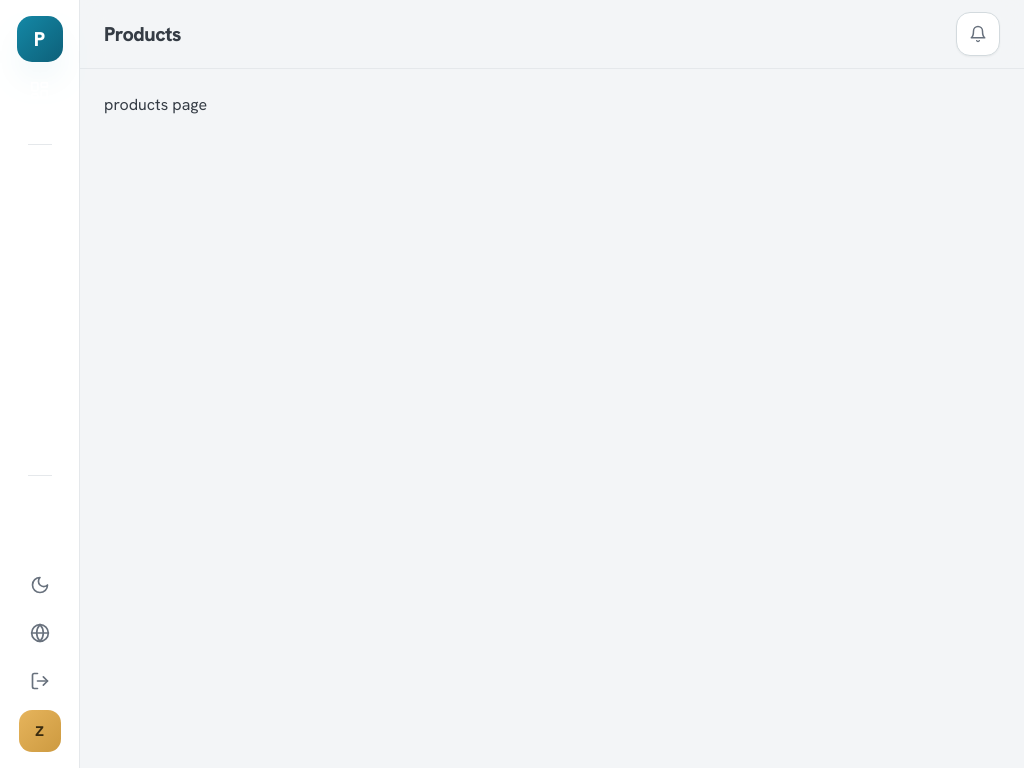
Scenario: Sidebar language menu — Escape to dismiss (#226) › closes the open language menu when Escape is pressed
Click the button named "language".
click(40, 633)  # box x1=18 y1=612 x2=60 y2=654
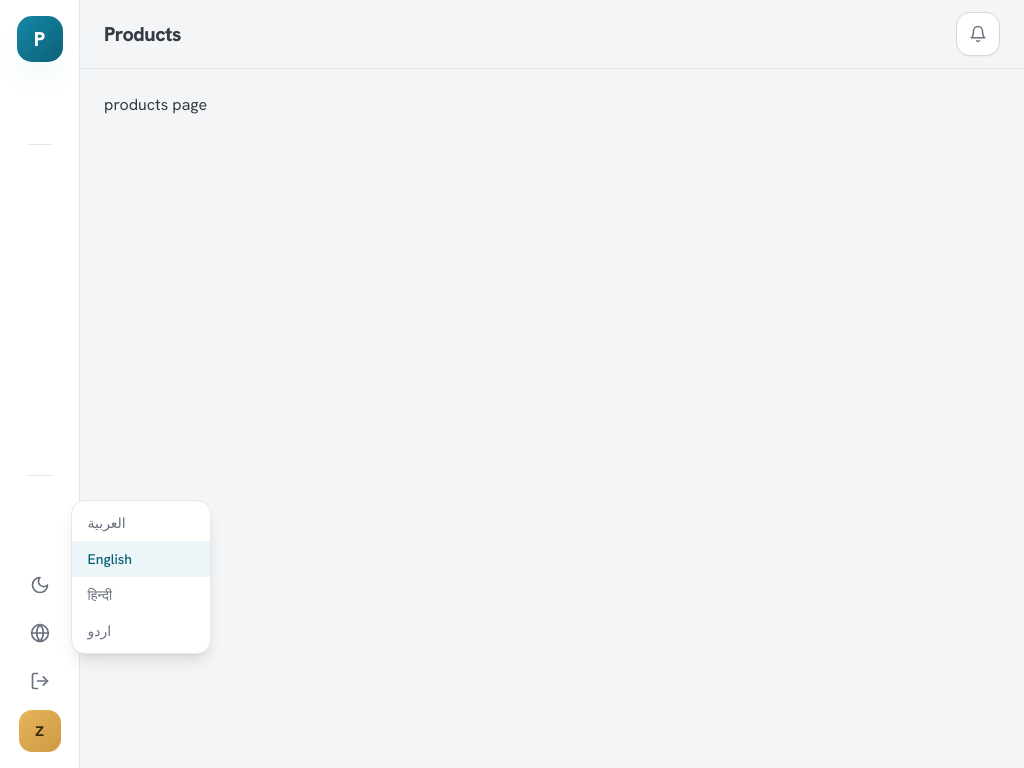
Expected: the button "English" is shown, x1=72 y1=541 x2=210 y2=577
Press Escape
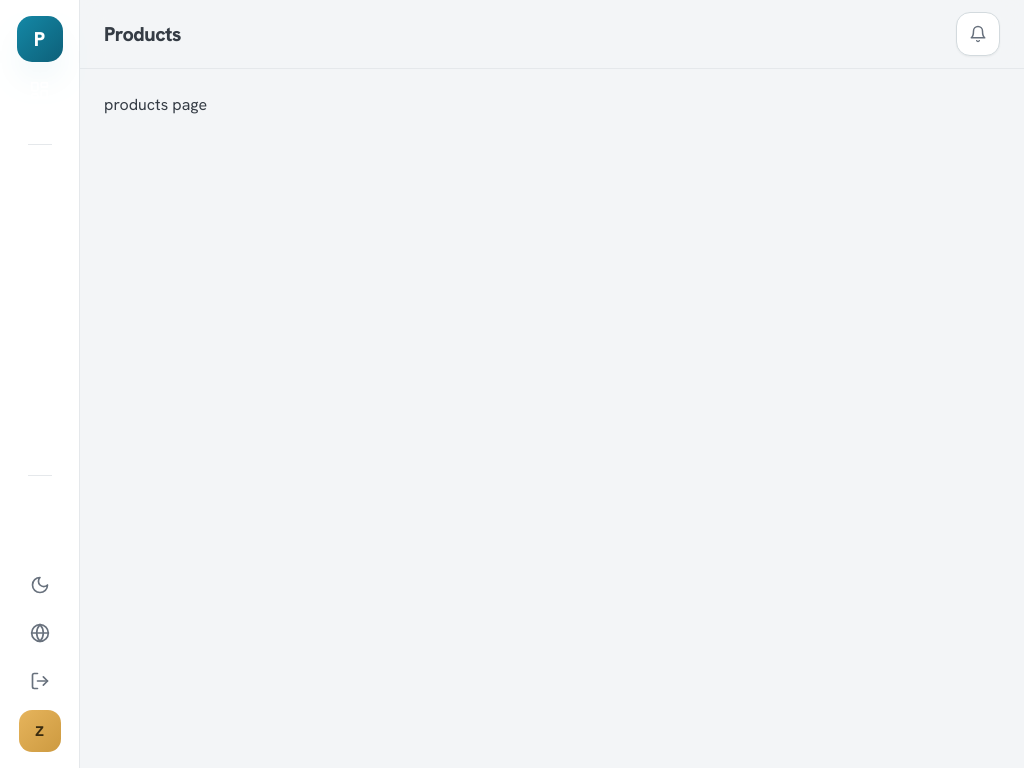
Expected: the button "English" is gone
